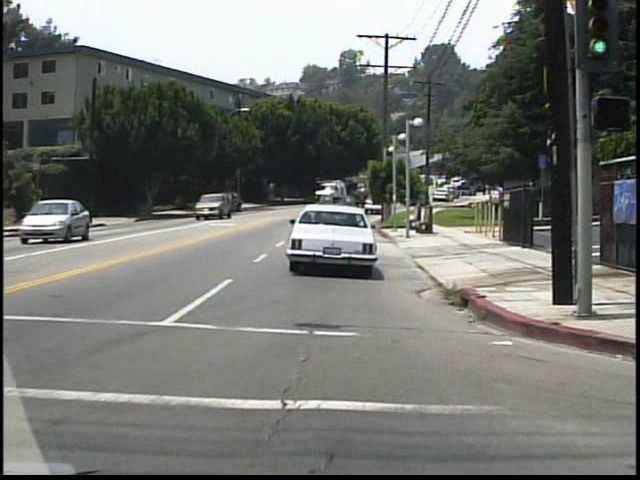person: (51, 200, 64, 228)
